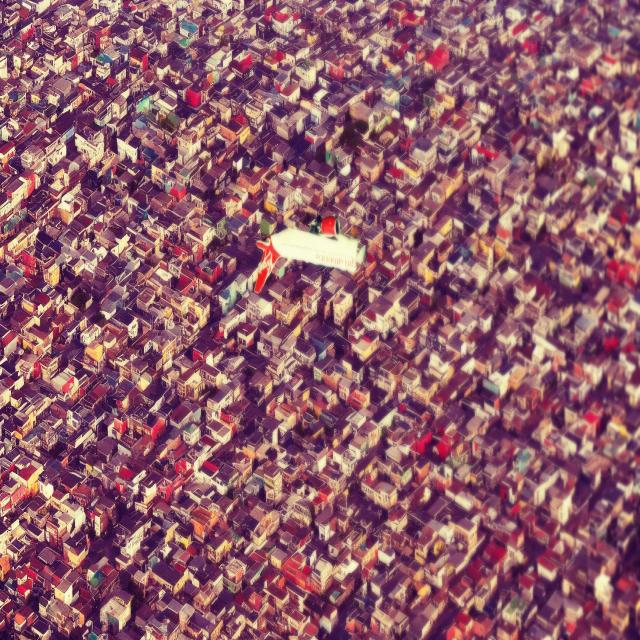airplane: (252, 213, 366, 294)
